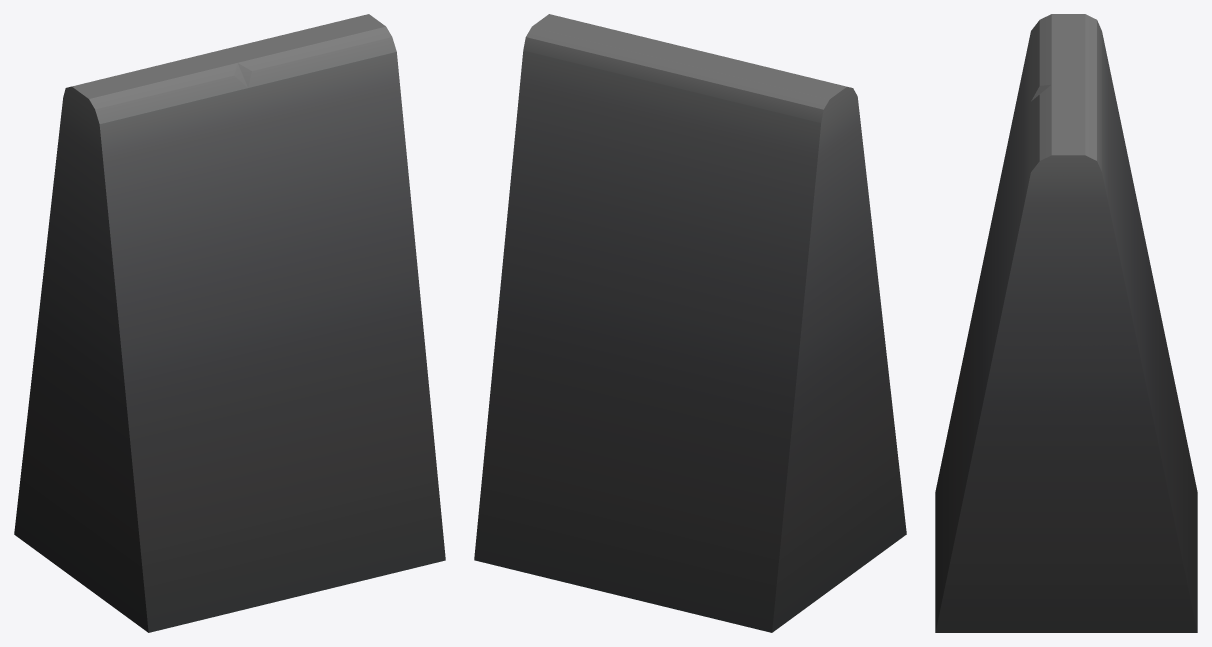
The model's file is Stone Wall Large 01.fbx.
3 views of the same model, side by side, from view 1: azimuth 30°, elevation 25°; view 2: azimuth 150°, elevation 25°; view 3: azimuth 270°, elevation 25° (orthographic). The views are drawn at different scales.
Visible parts, largest first — view 1: Stone Wall Large 01, Stone Wall Large 01 high; view 2: Stone Wall Large 01, Stone Wall Large 01 high; view 3: Stone Wall Large 01 high, Stone Wall Large 01.
Boxes of the visible parts, box(x1,y1,x2,y2) form: Stone Wall Large 01: box(14, 29, 445, 632); Stone Wall Large 01 high: box(14, 14, 396, 632); Stone Wall Large 01: box(474, 16, 906, 632); Stone Wall Large 01 high: box(523, 14, 906, 632); Stone Wall Large 01 high: box(935, 14, 1197, 632); Stone Wall Large 01: box(935, 14, 1197, 632).
Size of the model in its own units: 5 by 7.88 by 3.92.
Materials: 1 (1 with a texture image).
